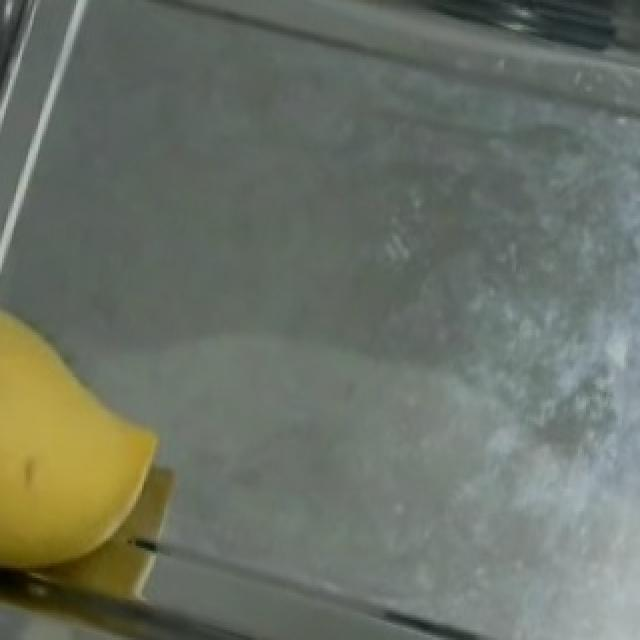fruit: (0, 266, 198, 616)
